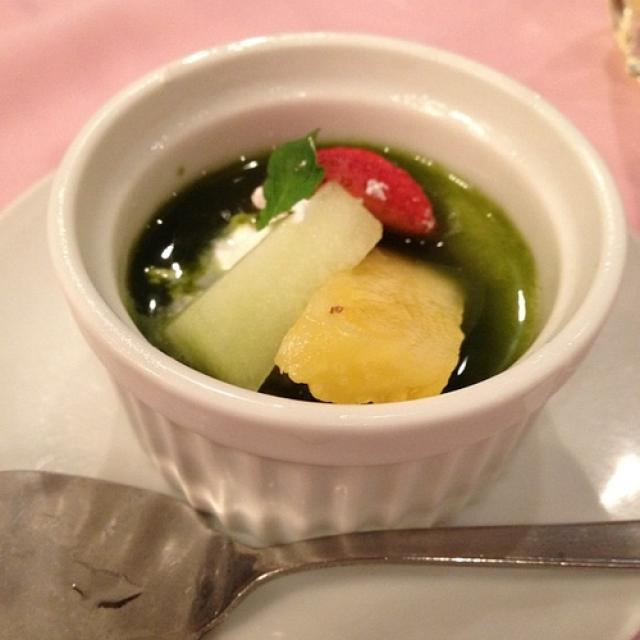面条主食: (17, 120, 598, 568)
